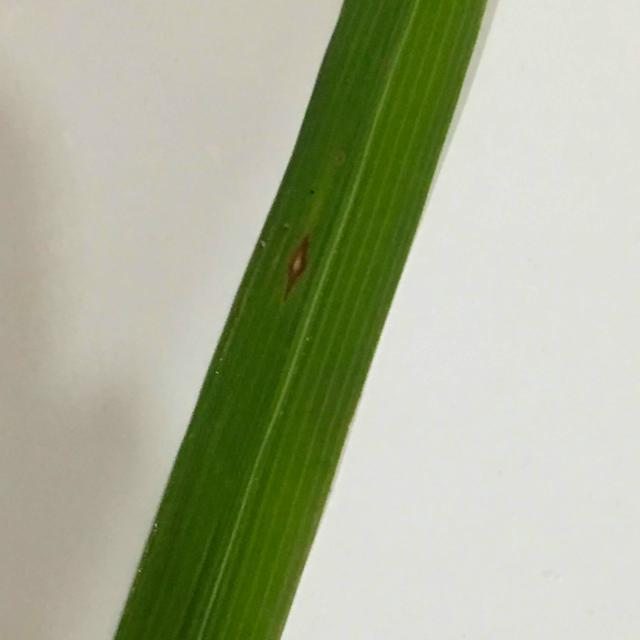Blast: (286, 240, 310, 284)
